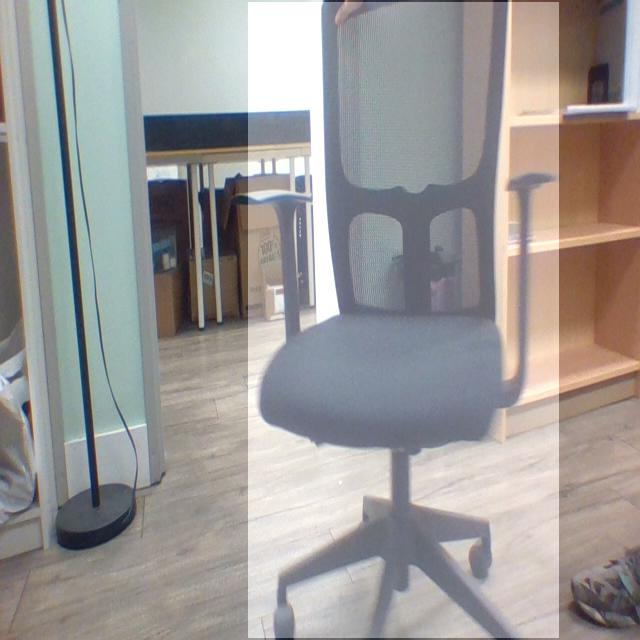black-chair: (248, 2, 560, 639)
